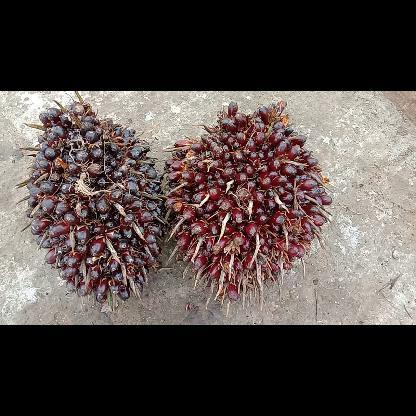Kurang masak: (20, 96, 166, 306)
TBS masak: (164, 96, 332, 308)
